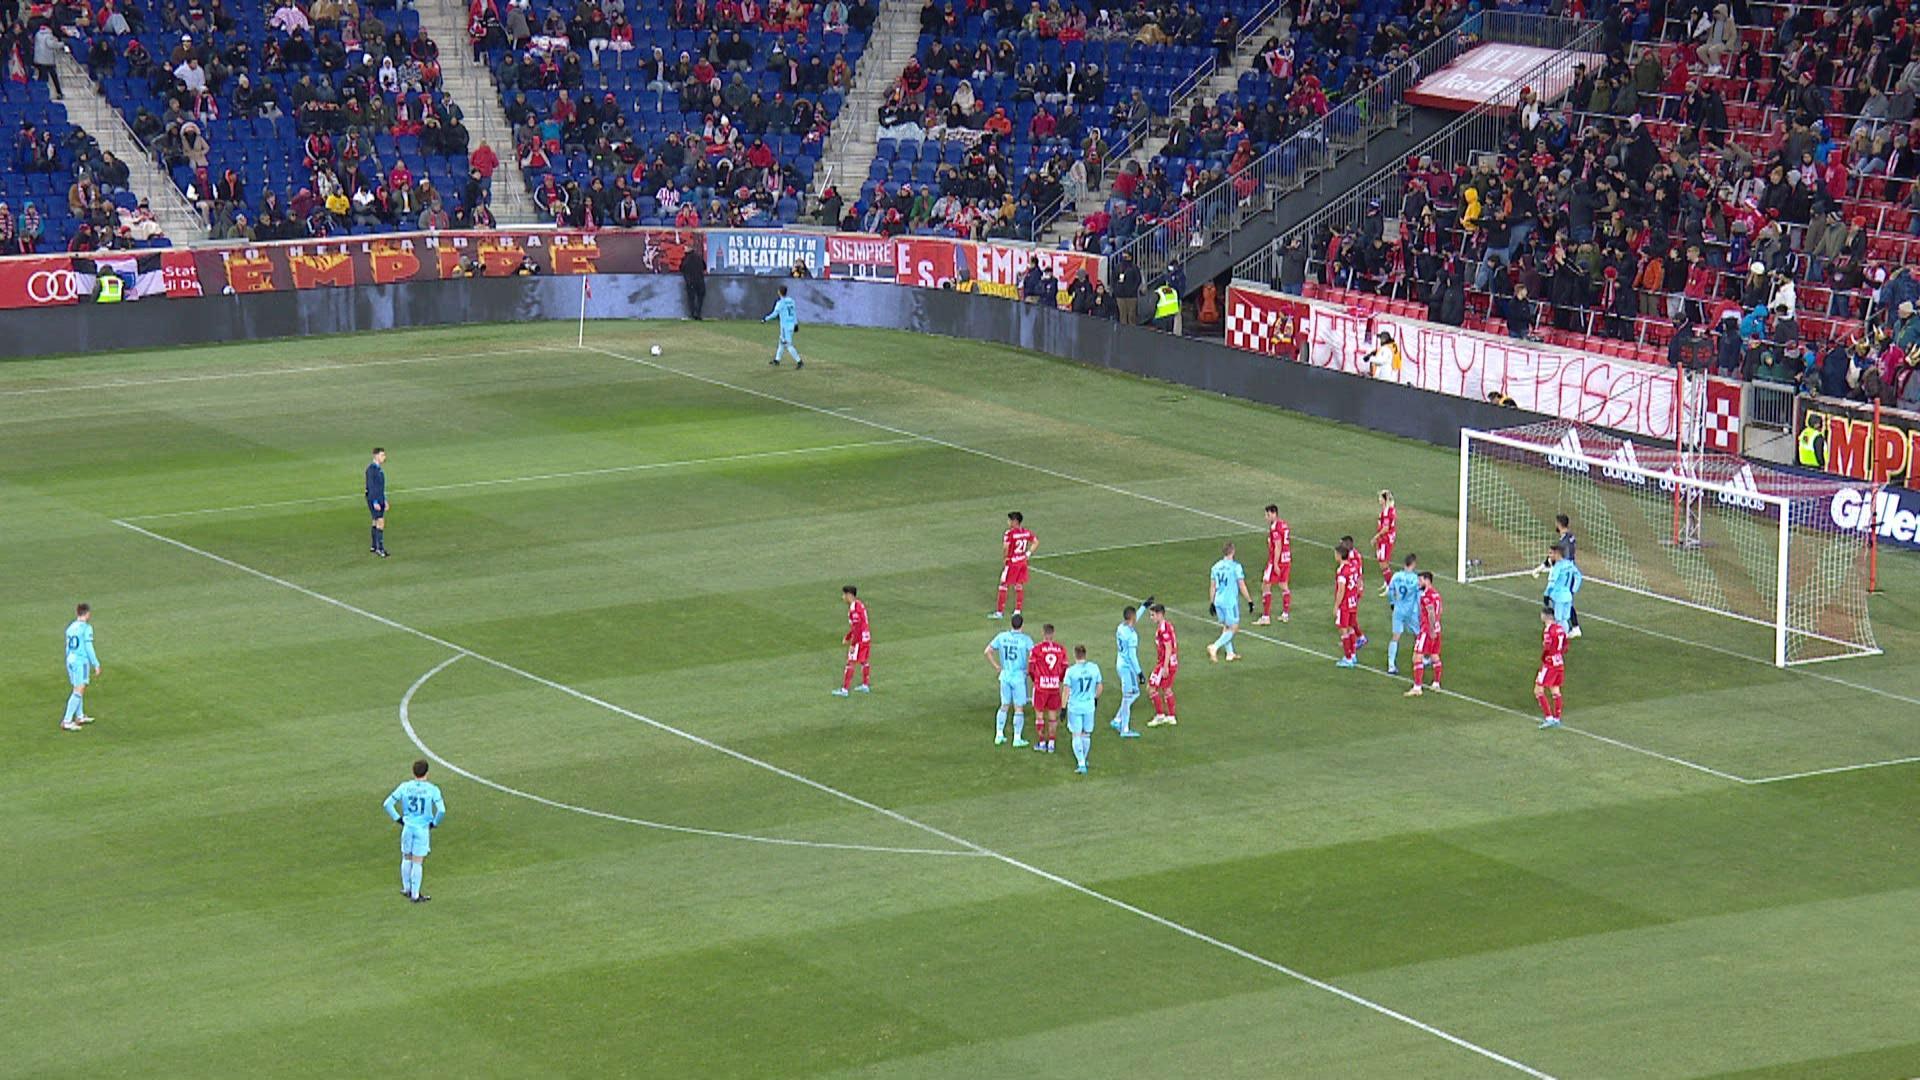football: (649, 344, 665, 356)
